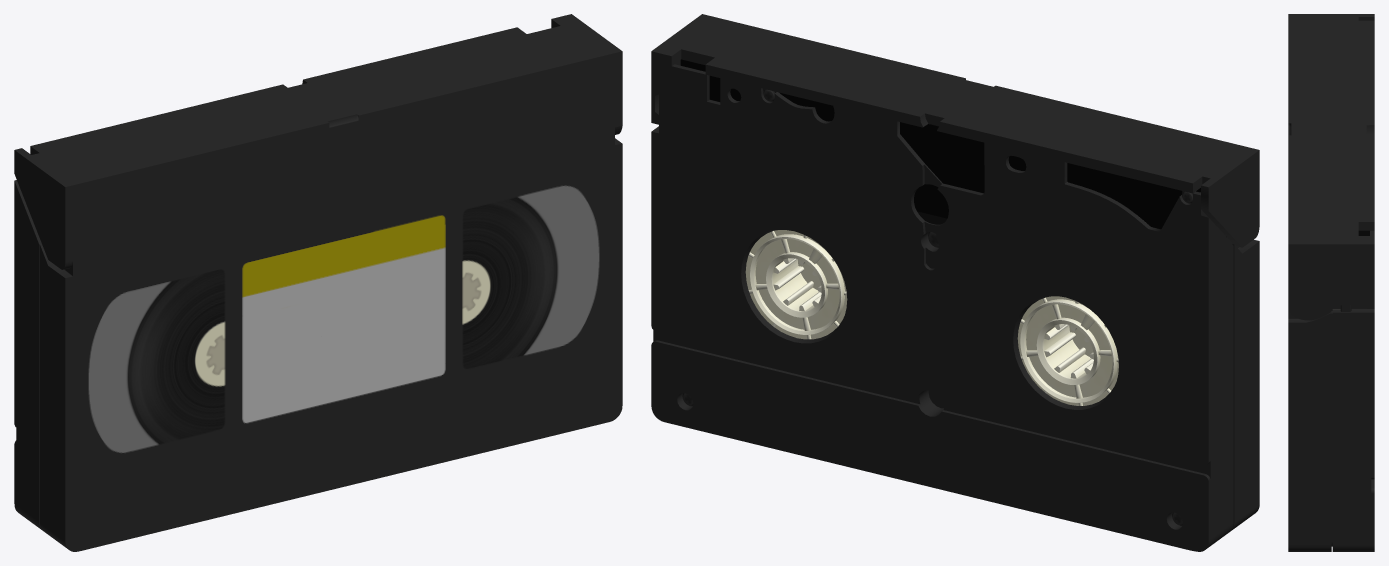
The model's file is arunangshubanerjee-vhs-1801.glb.
The picture shows the model from 3 angles, left to right: view 1: azimuth 30°, elevation 25°; view 2: azimuth 150°, elevation 25°; view 3: azimuth 270°, elevation 25°; orthographic projection. The views are drawn at different scales.
Visible parts, largest first — view 1: vhs_cassette_base_stylized_lod0; view 2: vhs_cassette_base_stylized_lod0; view 3: vhs_cassette_base_stylized_lod0.
Boxes of the visible parts, x1,y1,x2,y2 form: vhs_cassette_base_stylized_lod0: (14,14,622,551); vhs_cassette_base_stylized_lod0: (651,14,1259,551); vhs_cassette_base_stylized_lod0: (1288,14,1374,551).
Size of the model in its own units: 0.1611 by 0.1016 by 0.0255.
1 material, 1 textured.
